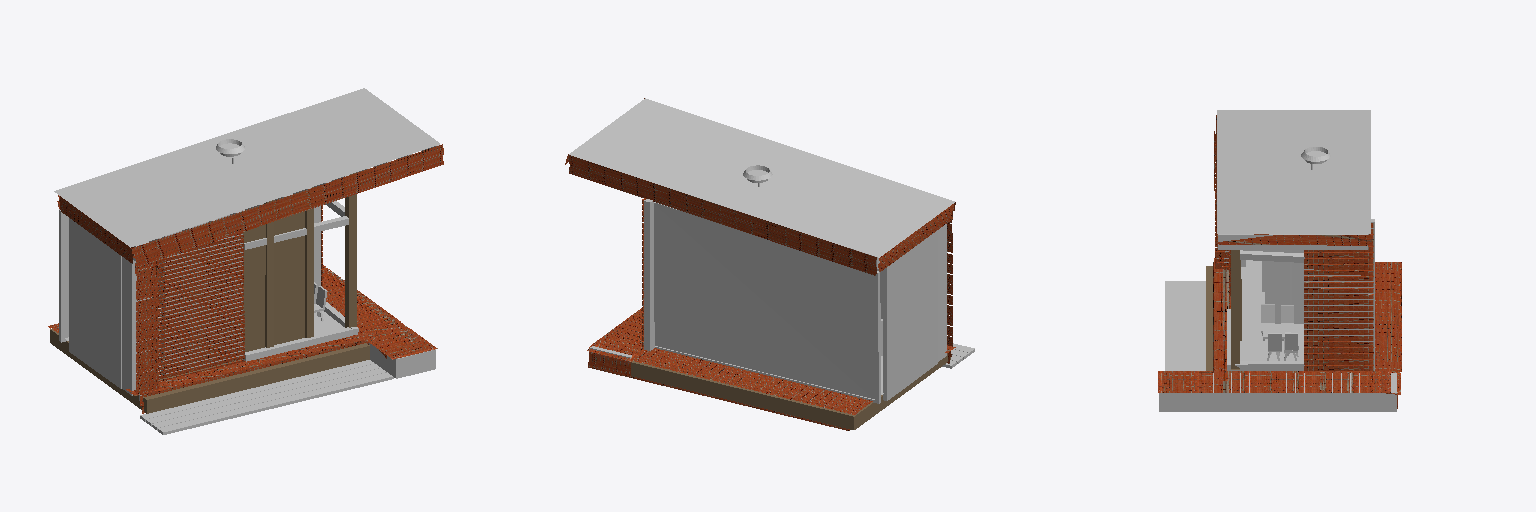
The picture shows the model from 3 angles: view 1: azimuth 30°, elevation 25°; view 2: azimuth 150°, elevation 25°; view 3: azimuth 270°, elevation 25°; orthographic projection.
Parts seen in each view (by area): view 1: Plane.001, Cube.001_Cube.048, Cube.002_Cube.013, Cube.013_Cube.017, Cube_Cube.052, Cube.011_Cube.015, Cube.008_Cube.003, Cube.038_Cube.045, Cube.017_Cube.021, Cube.016_Cube.020; view 2: Cube.008_Cube.003, Plane.001, Cube.001_Cube.048, Cube.013_Cube.017, Cube.007_Cube.009; view 3: Plane.001, Cube.001_Cube.048, Cube.004_Cube.011, Cube.038_Cube.045, Cube_Cube.052, Plane, Cube.035_Cube.042, Cube.034_Cube.040, Cube.007_Cube.009, Cube.020_Cube.025, Cube.065_Cube.074, Cube.054_Cube.086 (+1 smaller).
Boxes of the visible parts, x1,y1,x2,y2 form: Plane.001: [54, 88, 439, 247]; Cube.001_Cube.048: [48, 144, 443, 413]; Cube.002_Cube.013: [155, 211, 304, 381]; Cube.013_Cube.017: [69, 218, 135, 395]; Cube_Cube.052: [140, 360, 393, 434]; Cube.011_Cube.015: [161, 210, 242, 374]; Cube.008_Cube.003: [59, 209, 68, 342]; Cube.038_Cube.045: [369, 343, 435, 378]; Cube.017_Cube.021: [243, 327, 352, 361]; Cube.016_Cube.020: [244, 216, 348, 249]; Cube.008_Cube.003: [654, 202, 880, 403]; Plane.001: [569, 98, 954, 257]; Cube.001_Cube.048: [565, 98, 955, 430]; Cube.013_Cube.017: [883, 224, 946, 400]; Cube.007_Cube.009: [644, 199, 654, 350]; Plane.001: [1217, 110, 1370, 233]; Cube.001_Cube.048: [1158, 115, 1401, 408]; Cube.004_Cube.011: [1304, 223, 1373, 372]; Cube.038_Cube.045: [1159, 373, 1396, 411]; Cube_Cube.052: [1165, 281, 1205, 370]; Plane: [1240, 260, 1303, 360]; Cube.035_Cube.042: [1265, 250, 1303, 323]; Cube.034_Cube.040: [1218, 234, 1367, 249]; Cube.007_Cube.009: [1304, 219, 1374, 370]; Cube.020_Cube.025: [1227, 361, 1304, 370]; Cube.065_Cube.074: [1267, 332, 1298, 360]; Cube.054_Cube.086: [1261, 304, 1293, 340].
Size of the model in its own units: 18.44 by 11.34 by 12.41.
Materials: 15 (3 with a texture image).